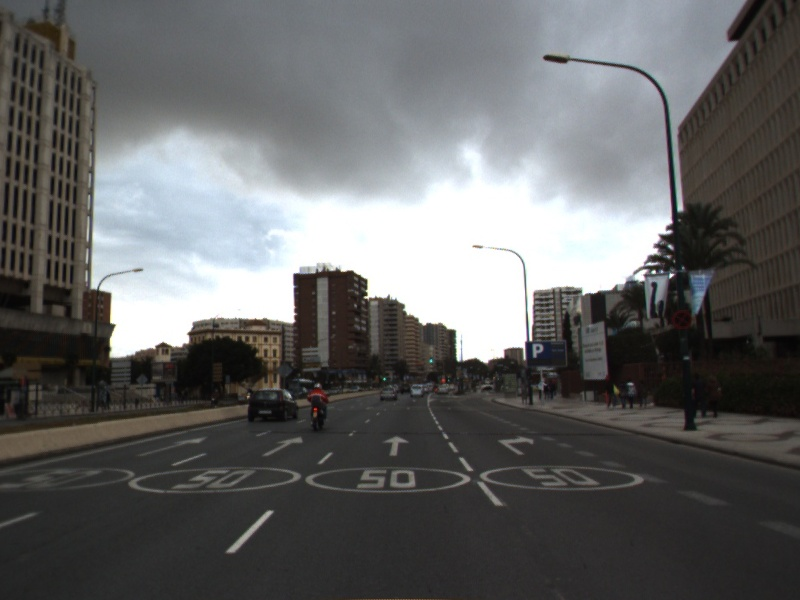RIGHT: (495, 434, 536, 457)
STRAIGHT: (135, 435, 210, 458), (260, 434, 305, 458), (380, 434, 411, 458)
